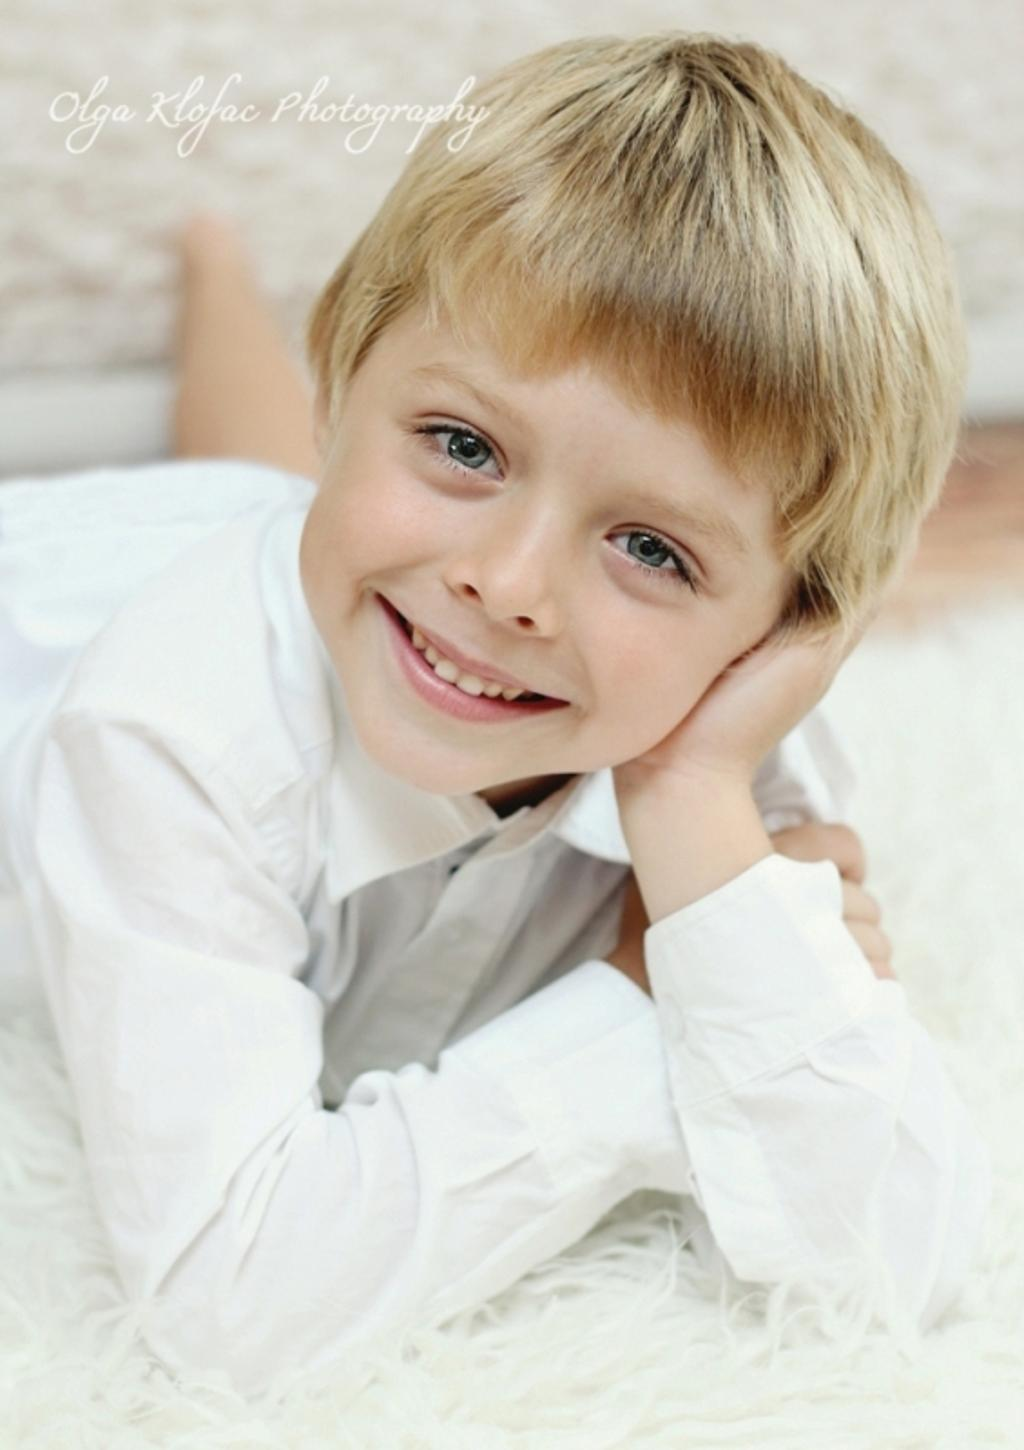face: (303, 269, 818, 801)
